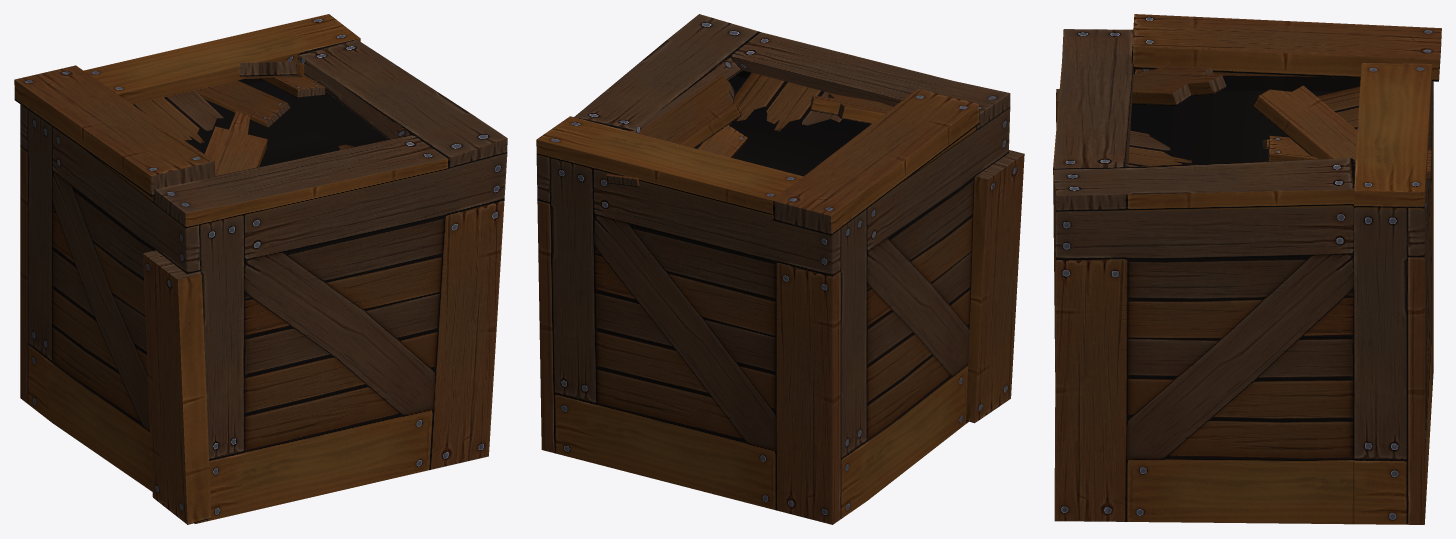
File: crate_broken 2.fbx
3 views of the same model, side by side, from view 1: azimuth 30°, elevation 25°; view 2: azimuth 150°, elevation 25°; view 3: azimuth 270°, elevation 25° (orthographic). The views are drawn at different scales.
Parts seen in each view (by area): view 1: Cube_0_012; view 2: Cube_0_012; view 3: Cube_0_012.
Part boxes in pixels (<box>): Cube_0_012: <box>14,14,507,524</box>; Cube_0_012: <box>536,14,1024,524</box>; Cube_0_012: <box>1053,14,1441,524</box>.
Size of the model in its own units: 1.1 by 1.11 by 1.05.
